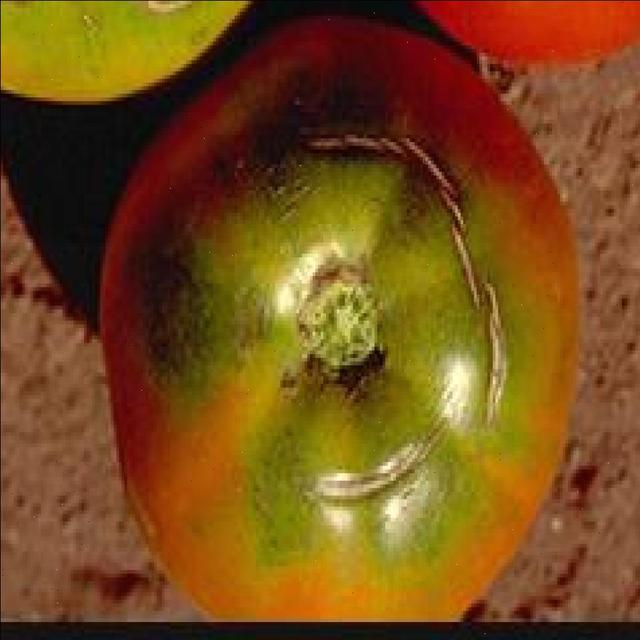Cracking Fruit: (28, 83, 337, 306)
